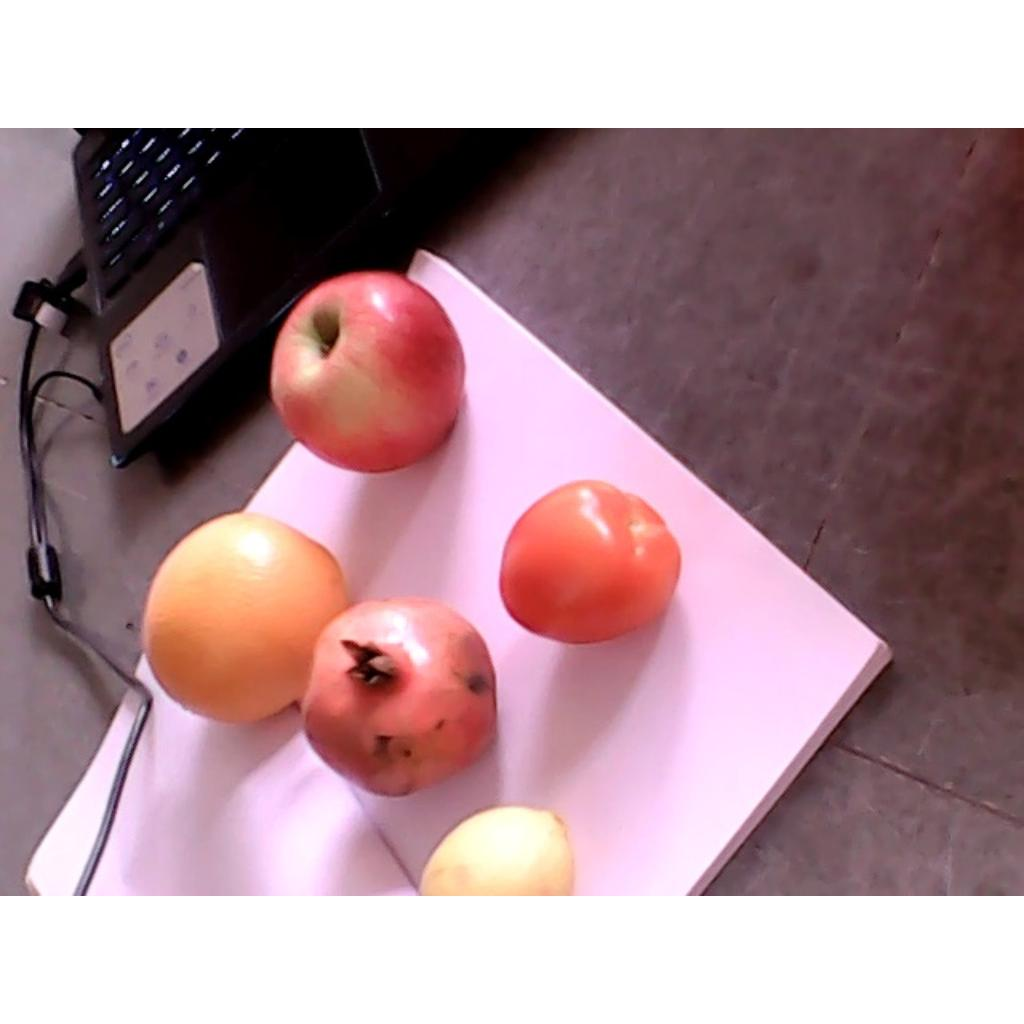apple: (272, 273, 466, 475)
lemon: (418, 804, 576, 894)
orange: (141, 512, 347, 723)
pomegranate: (304, 595, 498, 797)
tomato: (500, 481, 680, 644)
